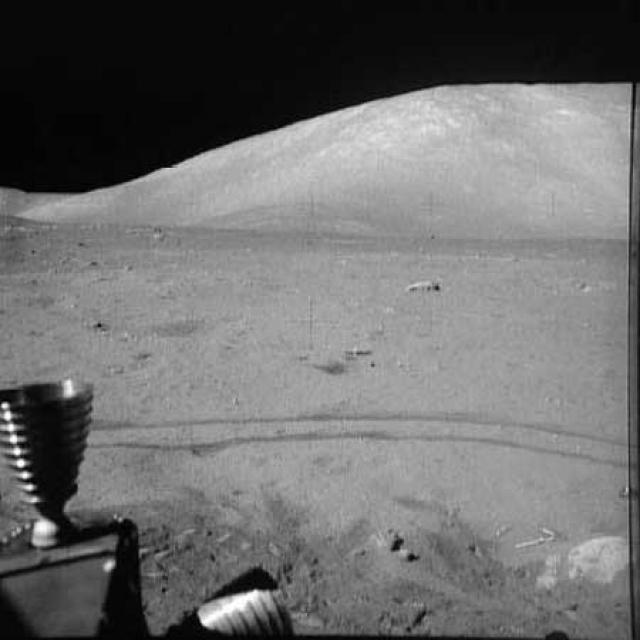artifact: (0, 372, 295, 639)
crater: (160, 318, 242, 344)
rock: (562, 524, 638, 592), (402, 272, 446, 301)
